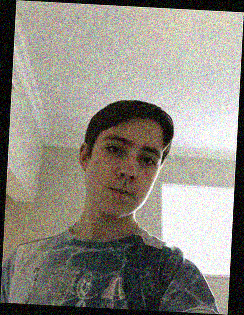without_mask: (85, 135, 163, 220)
